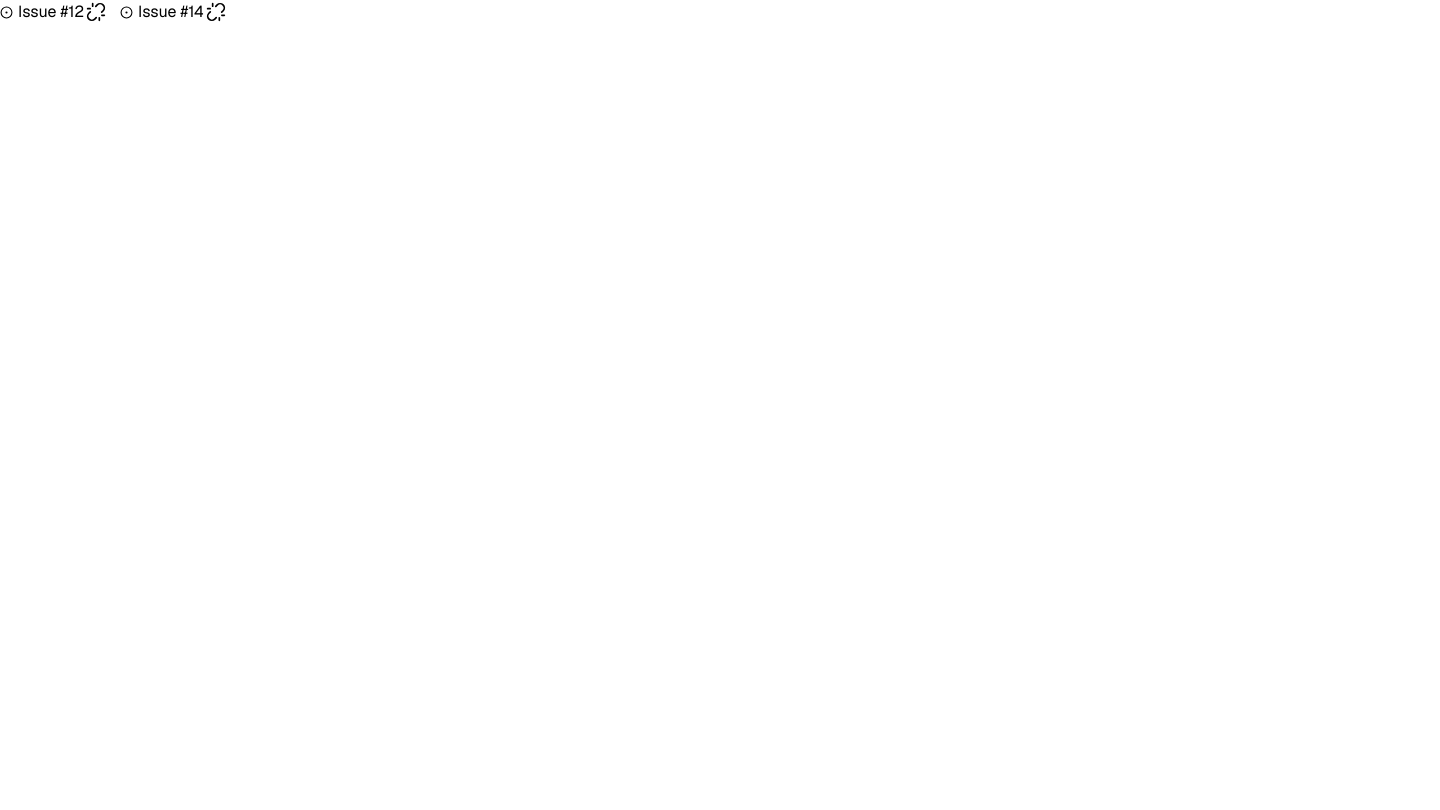
Test: a refused unlink keeps the dialog open with the reason
What coordinates should you click on to do the following:
click the button named "Unlink #12"
I would click on:
 (96, 12)
Its box is top-left (86, 2), bottom-right (106, 22).
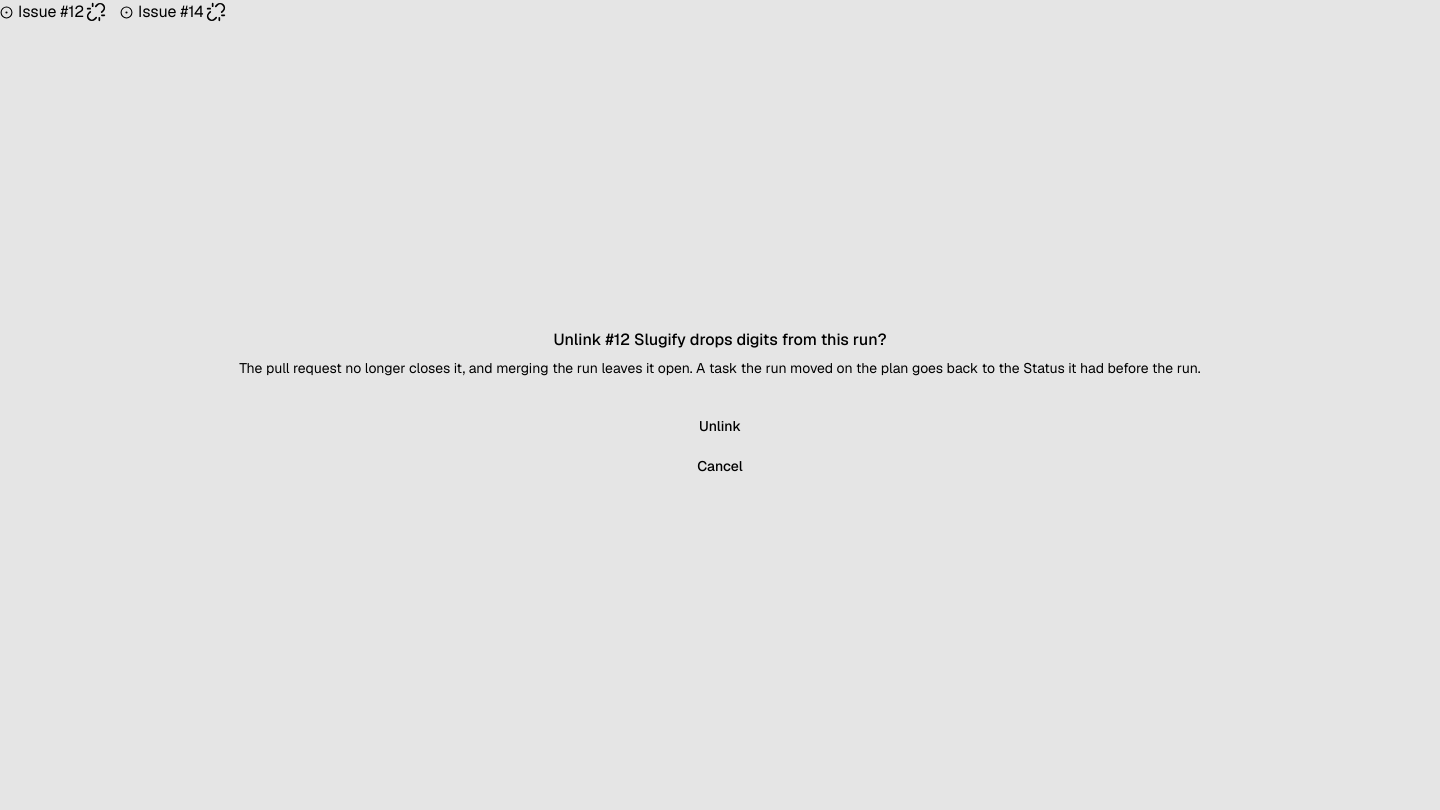
What coordinates should you click on to do the following:
click the button "Unlink"
I would click on:
 (720, 426)
Its box is top-left (16, 410), bottom-right (1424, 442).
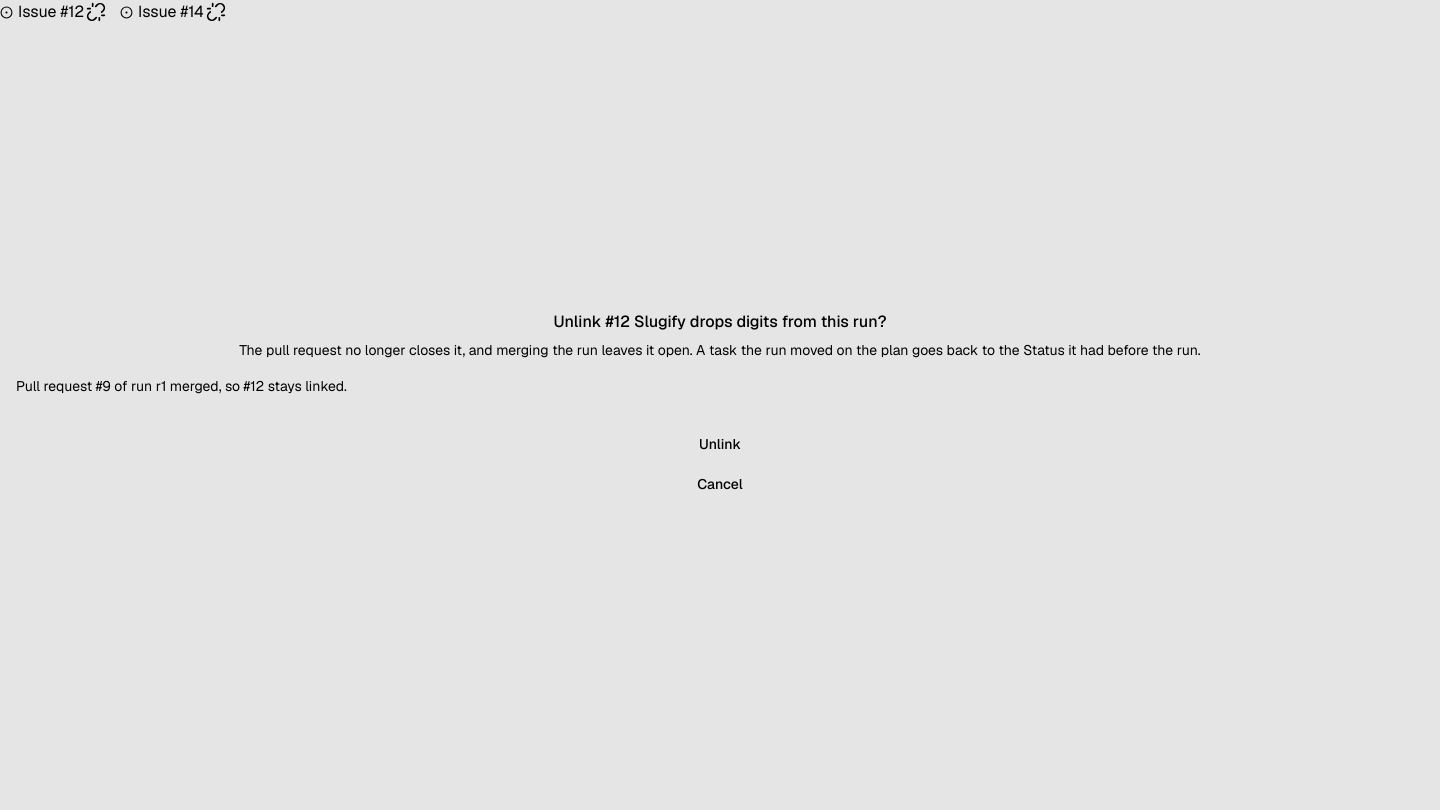
Expected: the text "Pull request #9 of run r1 merged, so #12 stays linked." is shown, top-left (16, 377), bottom-right (347, 395)
